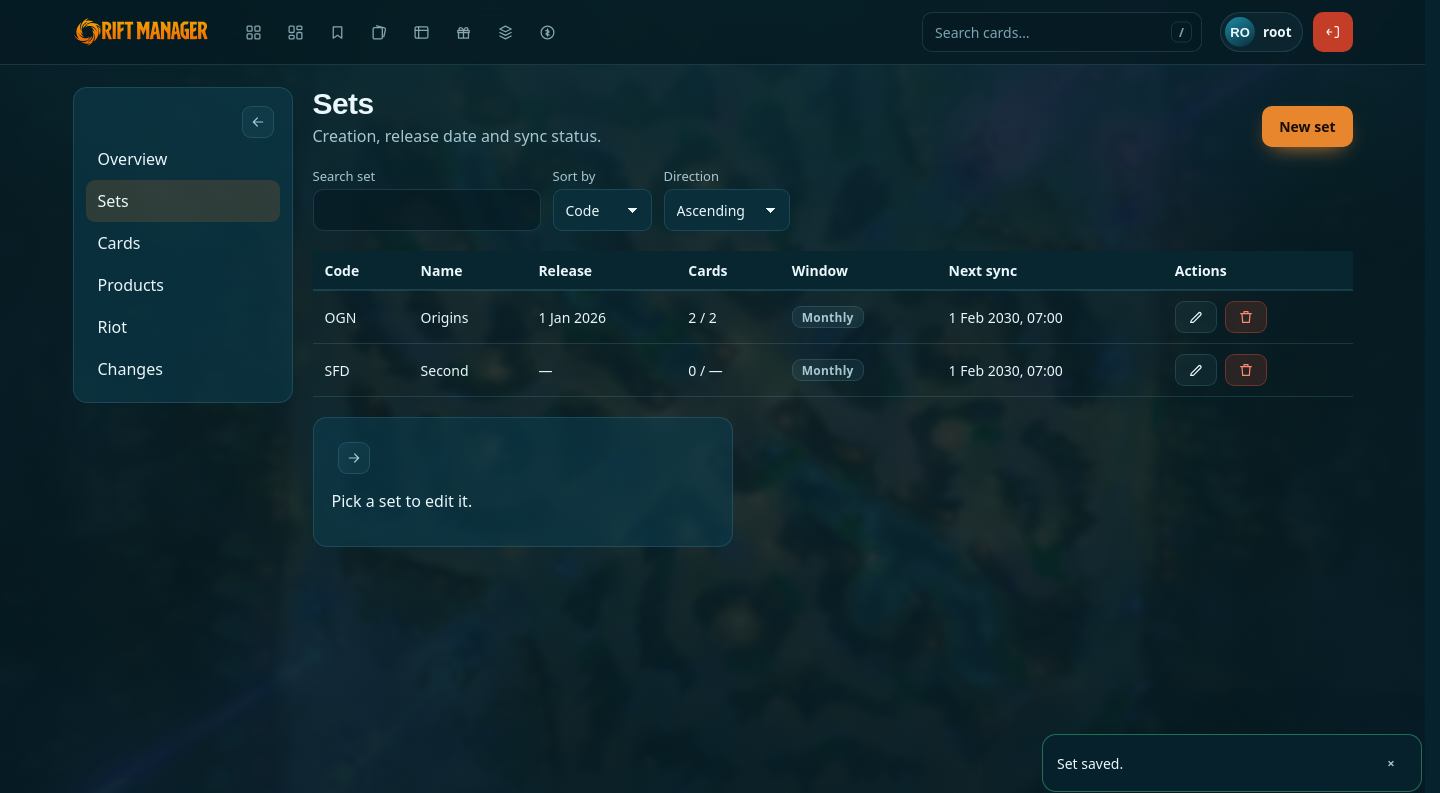
SetsPage (F13-f S4-S6) › new set opens the form and creates the set at 1700 px
Click the button "New set" at (1307, 126), box x1=1262 y1=106 x2=1352 y2=147
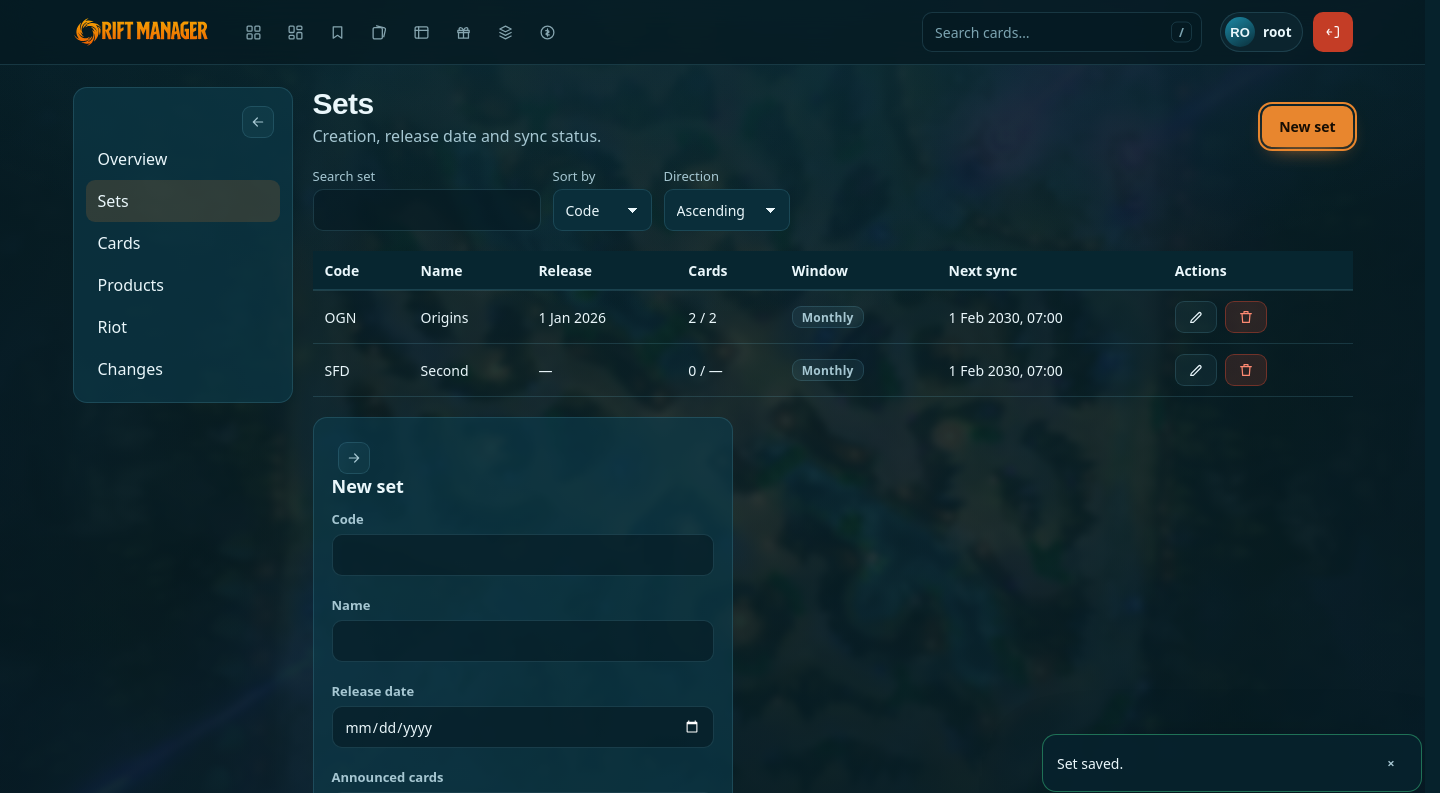
Type "TST" into the field labelled "Code" at (522, 555), box x1=332 y1=534 x2=714 y2=576
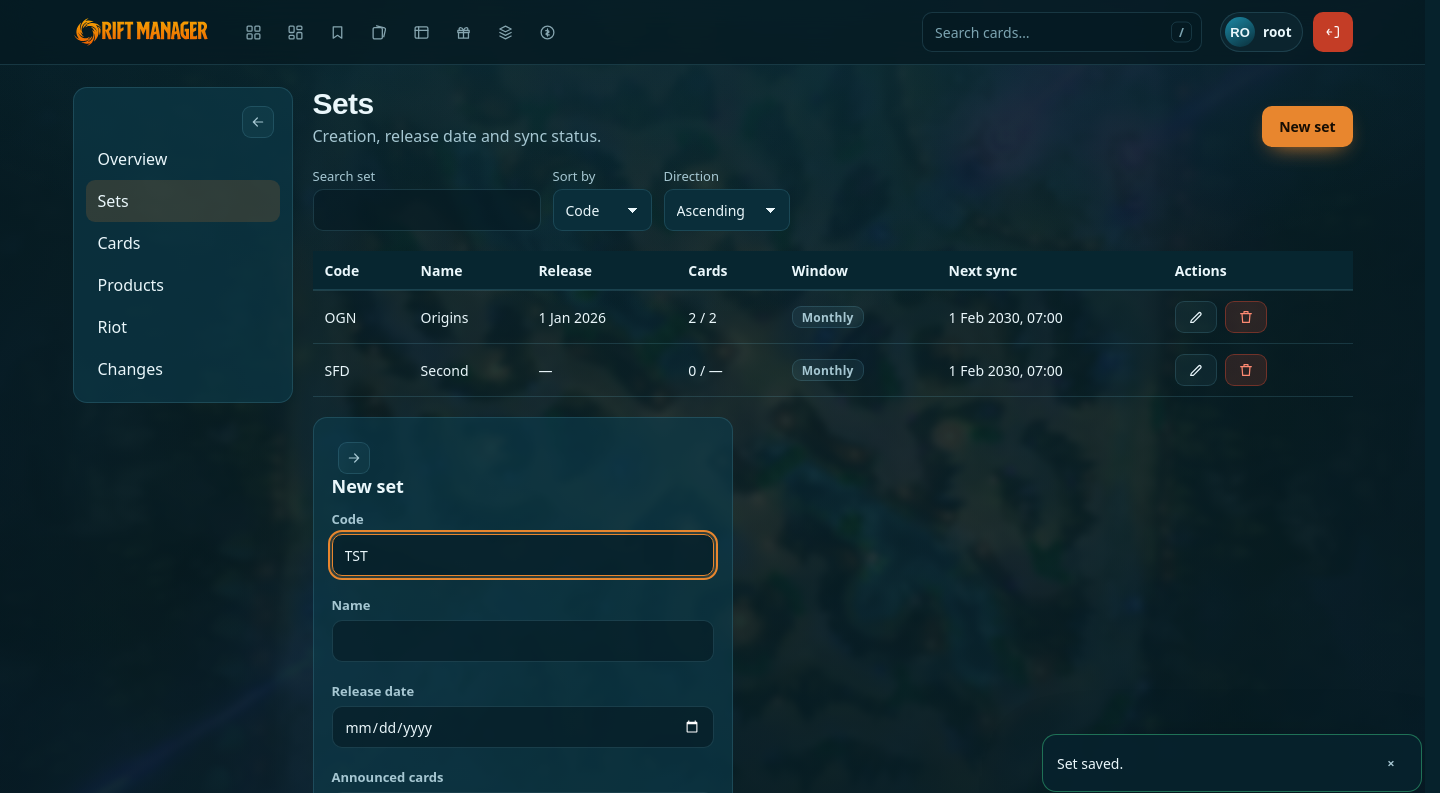
Type "Test" into the field labelled "Name" at (522, 641), box x1=332 y1=620 x2=714 y2=662
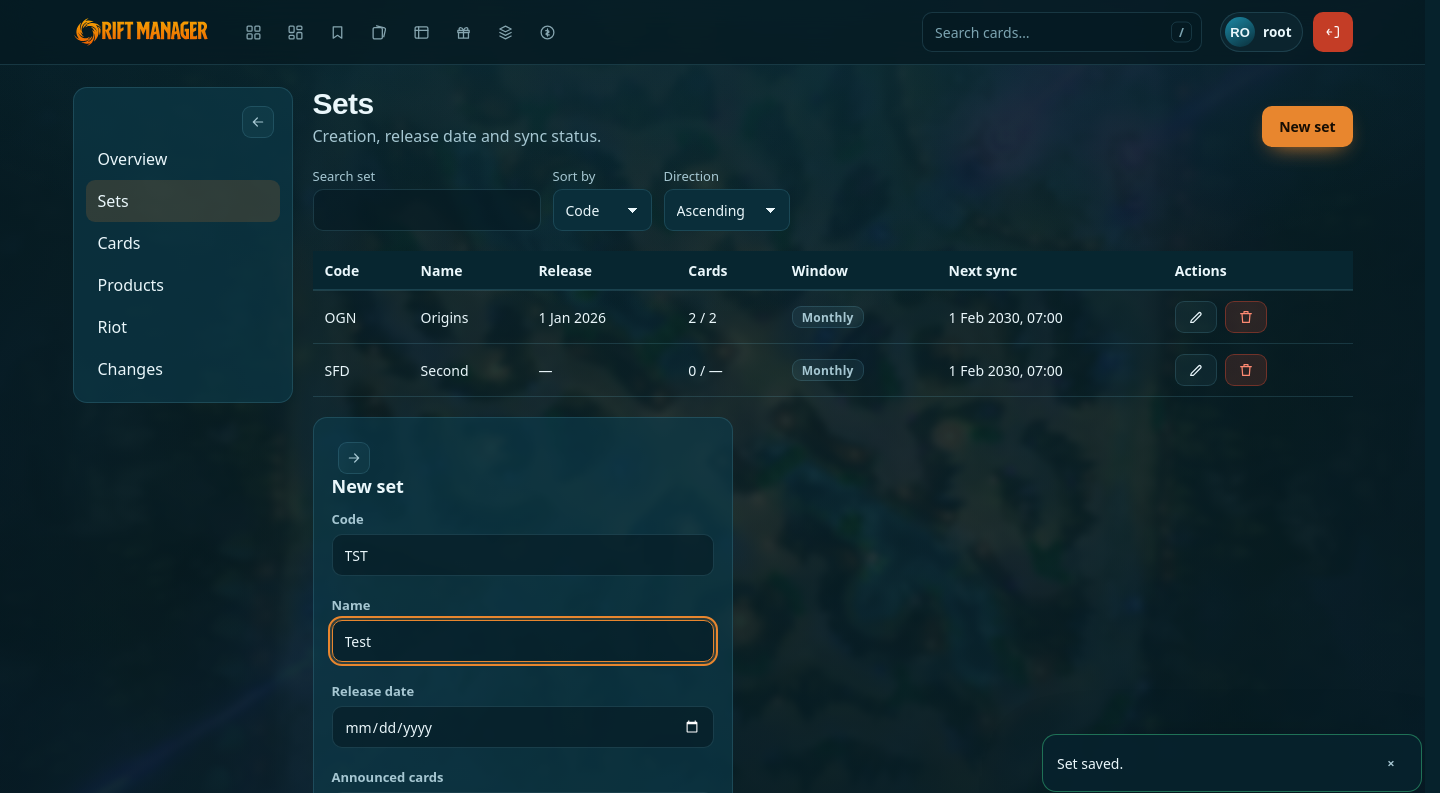
Type "2026-12-04" into the date field labelled "Release date" at (522, 727), box x1=332 y1=706 x2=714 y2=748
(page scrolled)
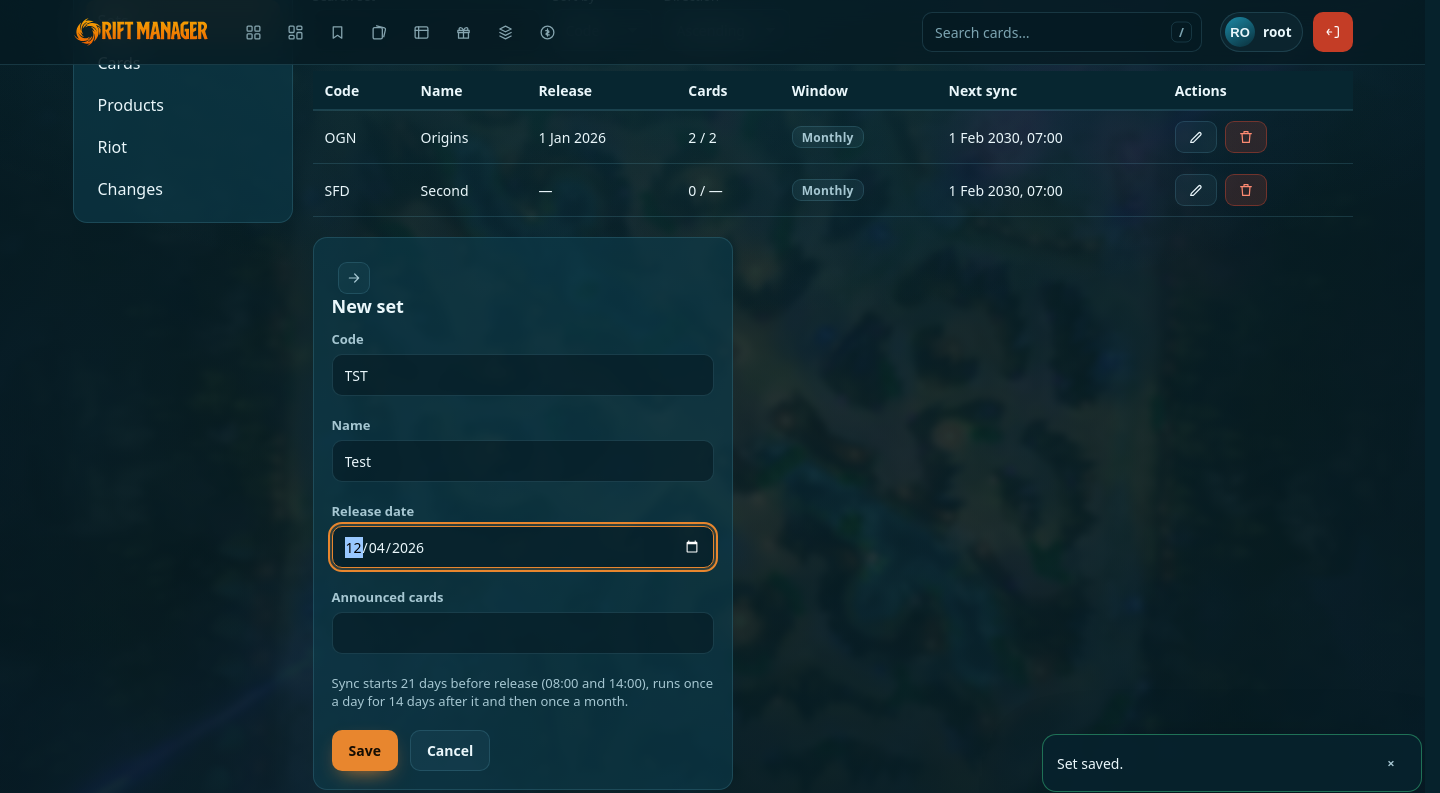
Type "12" into the number field labelled "Announced cards" at (522, 633), box x1=332 y1=612 x2=714 y2=654
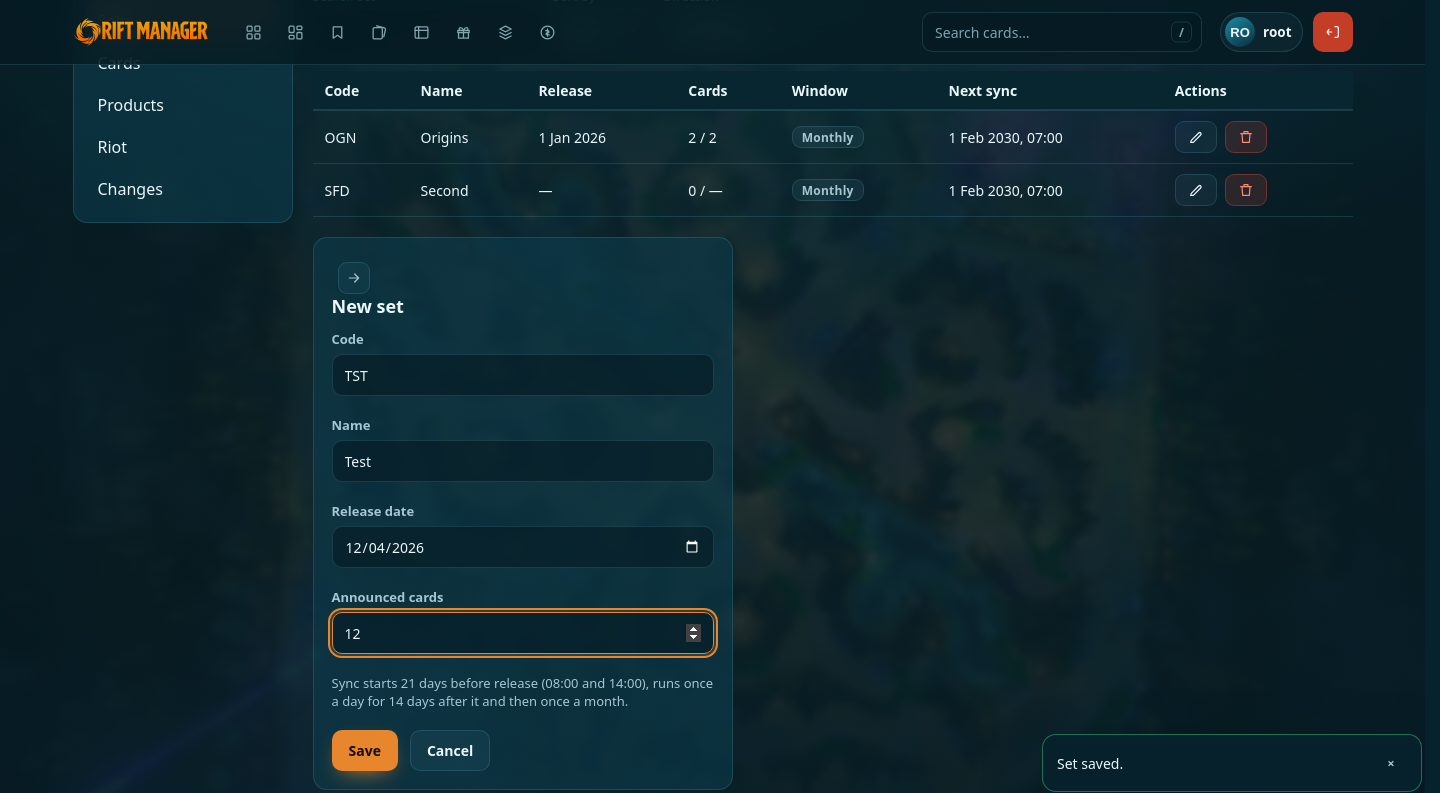
Click the button "Save" at (365, 750), box x1=332 y1=730 x2=398 y2=771
(page scrolled)
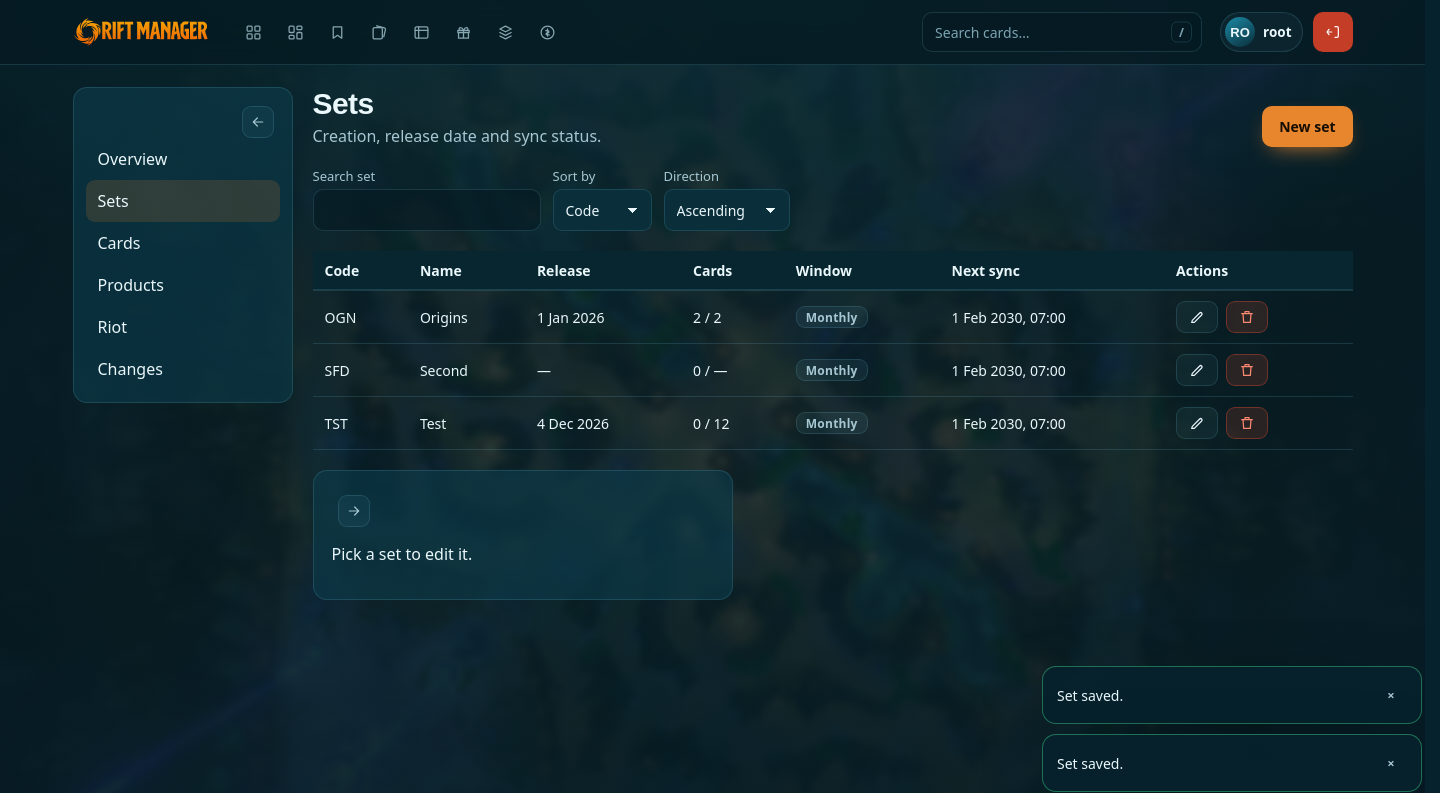
Check: the 1st text "Set saved." is shown, box x1=1057 y1=686 x2=1123 y2=704
Check: the cell "TST" is shown, box x1=312 y1=396 x2=408 y2=450
